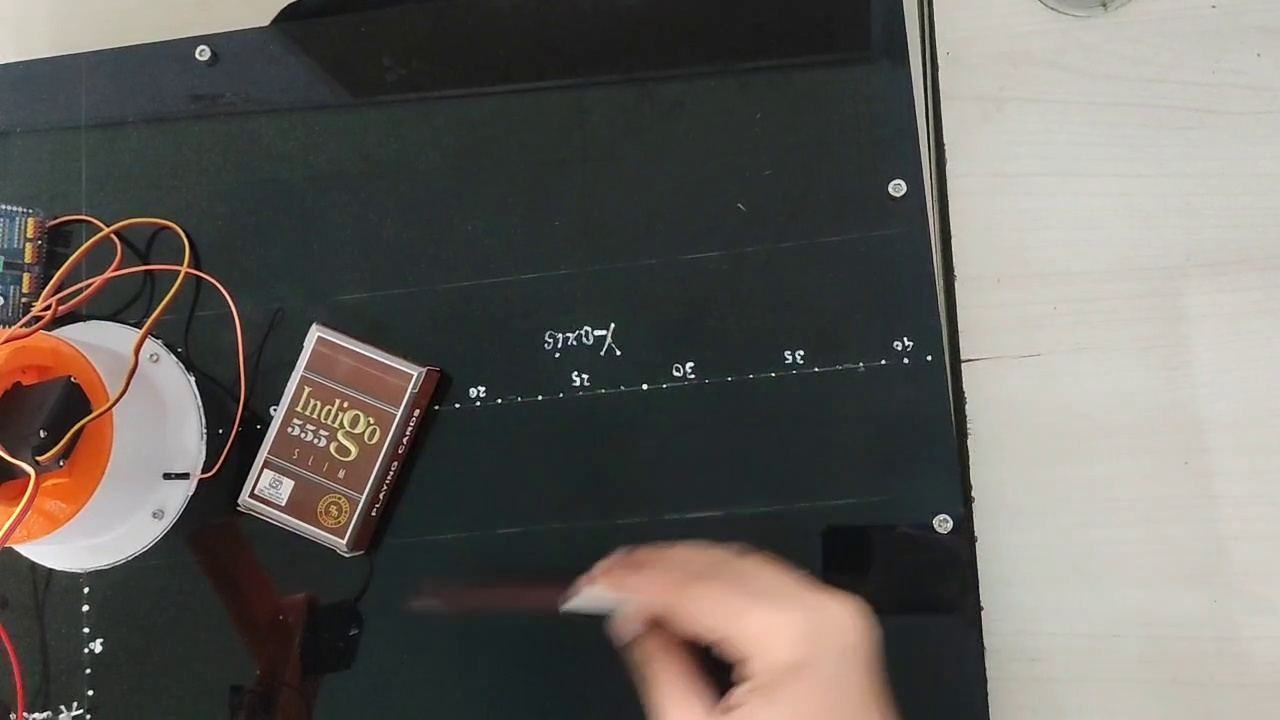BEX: (244, 334, 419, 541)
